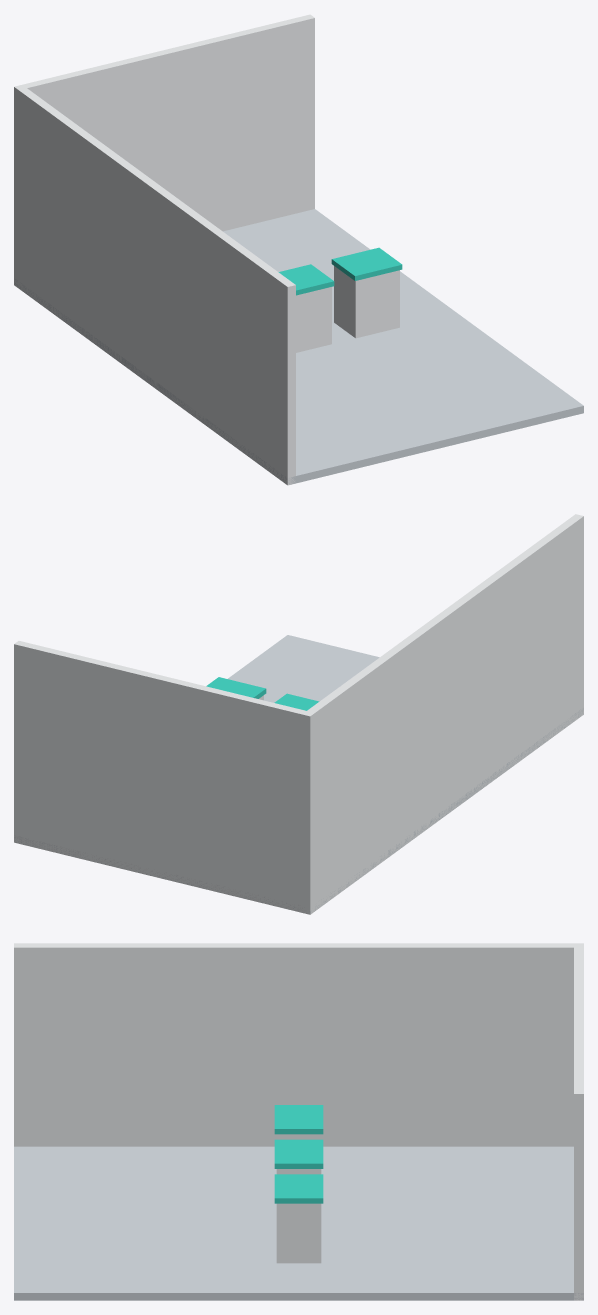
3 renders of one model, top to bottom at view 1: azimuth 30°, elevation 25°; view 2: azimuth 150°, elevation 25°; view 3: azimuth 270°, elevation 25°, orthographic. The views are drawn at different scales.
Parts seen in each view (by area): view 1: Exhibition Booth Concept; view 2: Exhibition Booth Concept; view 3: Exhibition Booth Concept.
Boxes of the visible parts, box(x1,y1,x2,y2) form: Exhibition Booth Concept: box(14, 14, 583, 485); Exhibition Booth Concept: box(14, 514, 583, 914); Exhibition Booth Concept: box(14, 943, 583, 1300).
Bounding box in the file's own units: 5 × 3.2 × 8.
